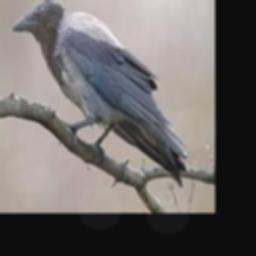Crow: (11, 0, 187, 186)
